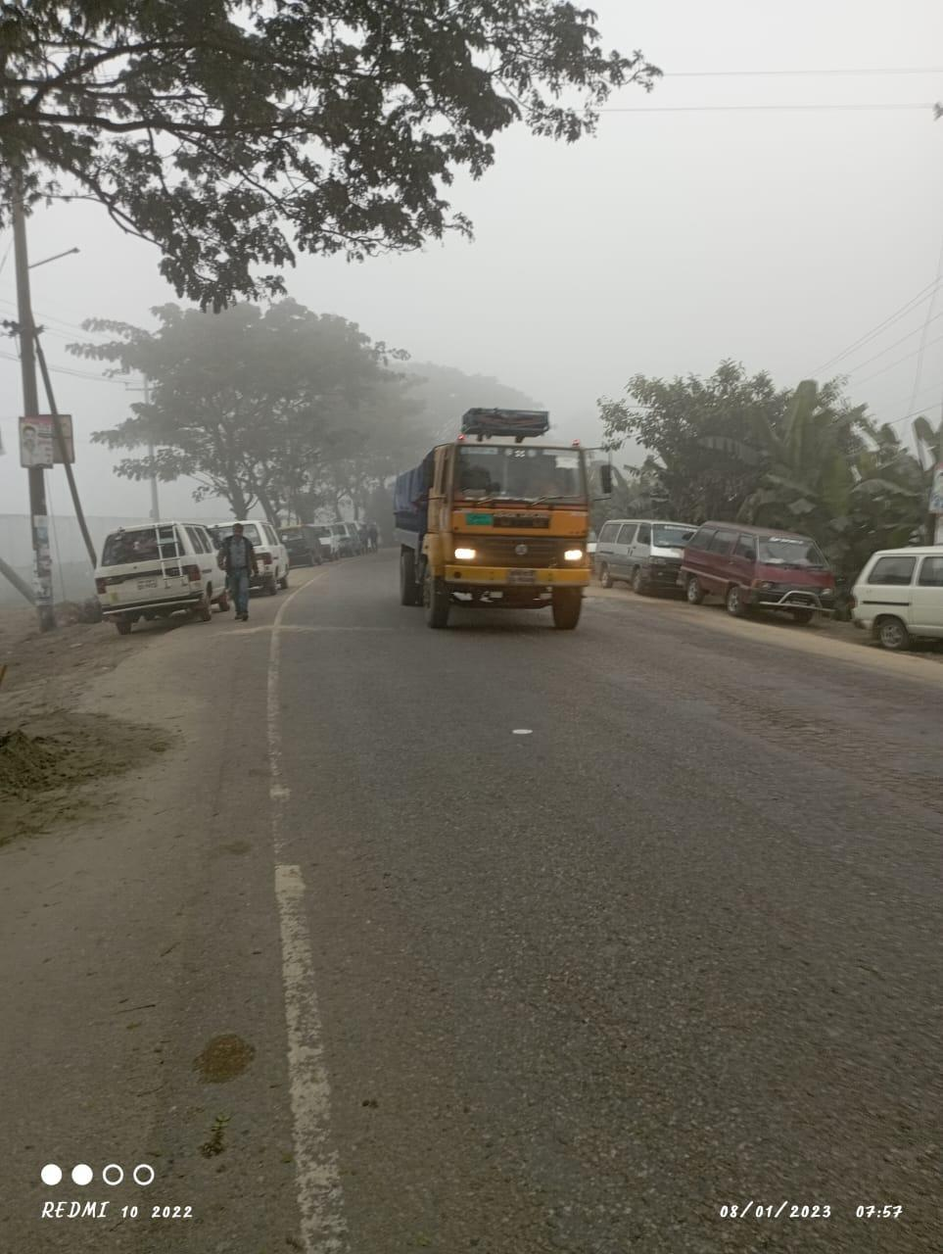Car: (679, 520, 839, 646), (94, 516, 227, 622), (844, 544, 943, 651), (593, 508, 684, 600), (225, 512, 295, 597)
Truck: (373, 401, 619, 632)
